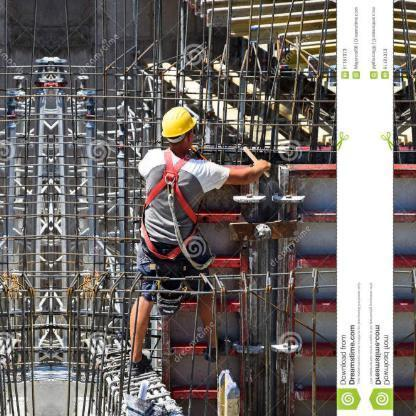helmet: (158, 106, 200, 146)
